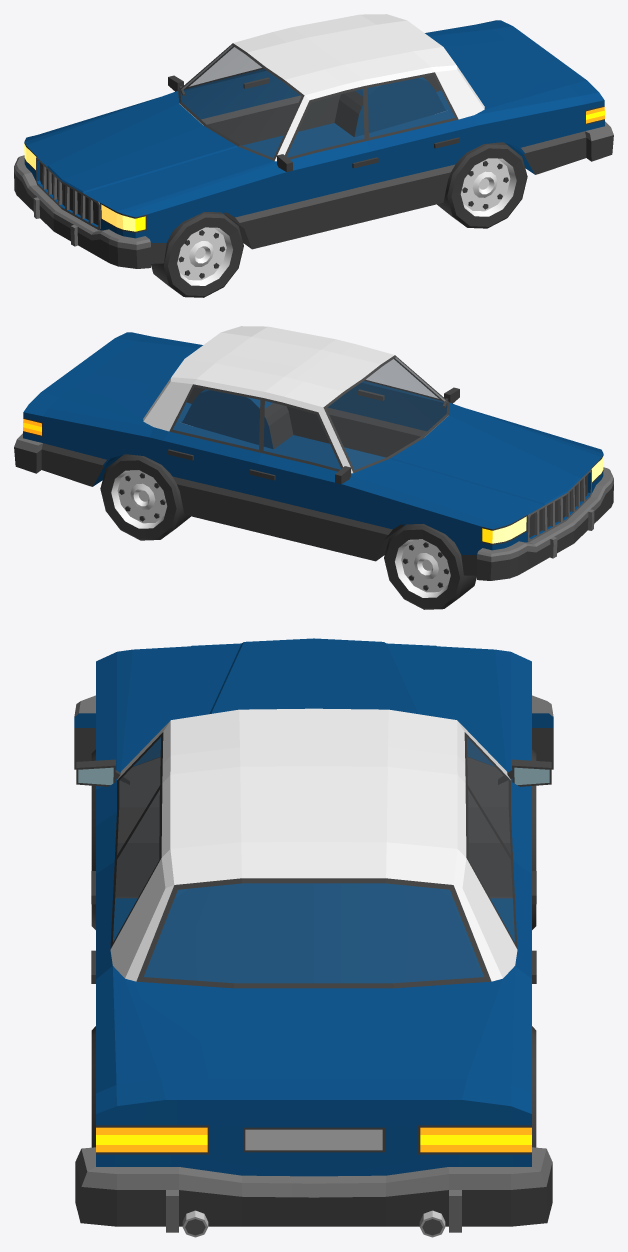
File: classic-sedan.glb
3 renders of one model, top to bottom at view 1: azimuth 30°, elevation 25°; view 2: azimuth 150°, elevation 25°; view 3: azimuth 270°, elevation 25°, orthographic. The views are drawn at different scales.
Visible parts, largest first — view 1: Classic Car_9, Classic Car_9 FL Tire, Classic Car_9 BL Tire; view 2: Classic Car_9, Classic Car_9 FR Tire, Classic Car_9 BR Tire; view 3: Classic Car_9.
Part boxes in pixels (x1,y1,x2,y2): Classic Car_9: [14, 14, 613, 268]; Classic Car_9 FL Tire: [151, 212, 243, 297]; Classic Car_9 BL Tire: [437, 142, 527, 228]; Classic Car_9: [14, 326, 613, 580]; Classic Car_9 FR Tire: [384, 524, 476, 609]; Classic Car_9 BR Tire: [100, 454, 190, 540]; Classic Car_9: [74, 638, 553, 1237].
Bounding box in the file's own units: 5.03 × 1.55 × 2.05.
Materials: 3 (2 with a texture image).
